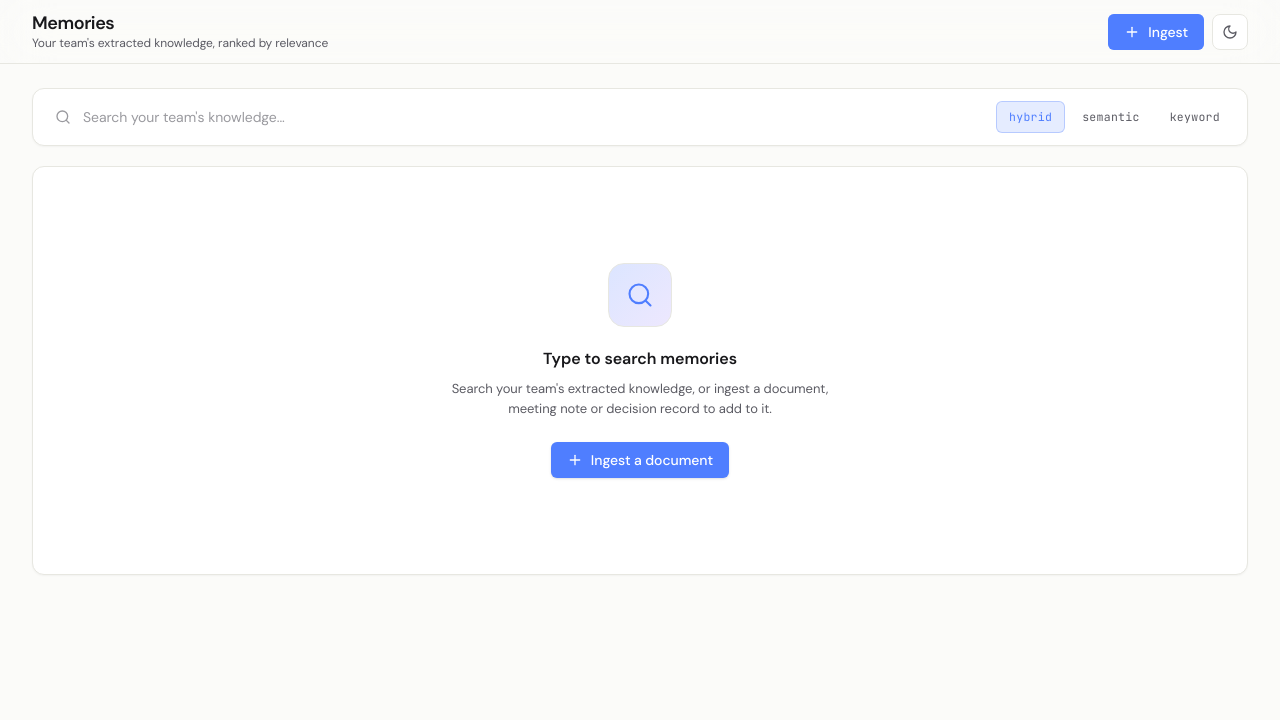
it: recovering from a failed search › a retry that succeeds clears the error and shows the results
The width and height of the screenshot is (1280, 720).
In the field with test id "memories-search-input": (514,117) [39, 95, 988, 139], type "vector index"
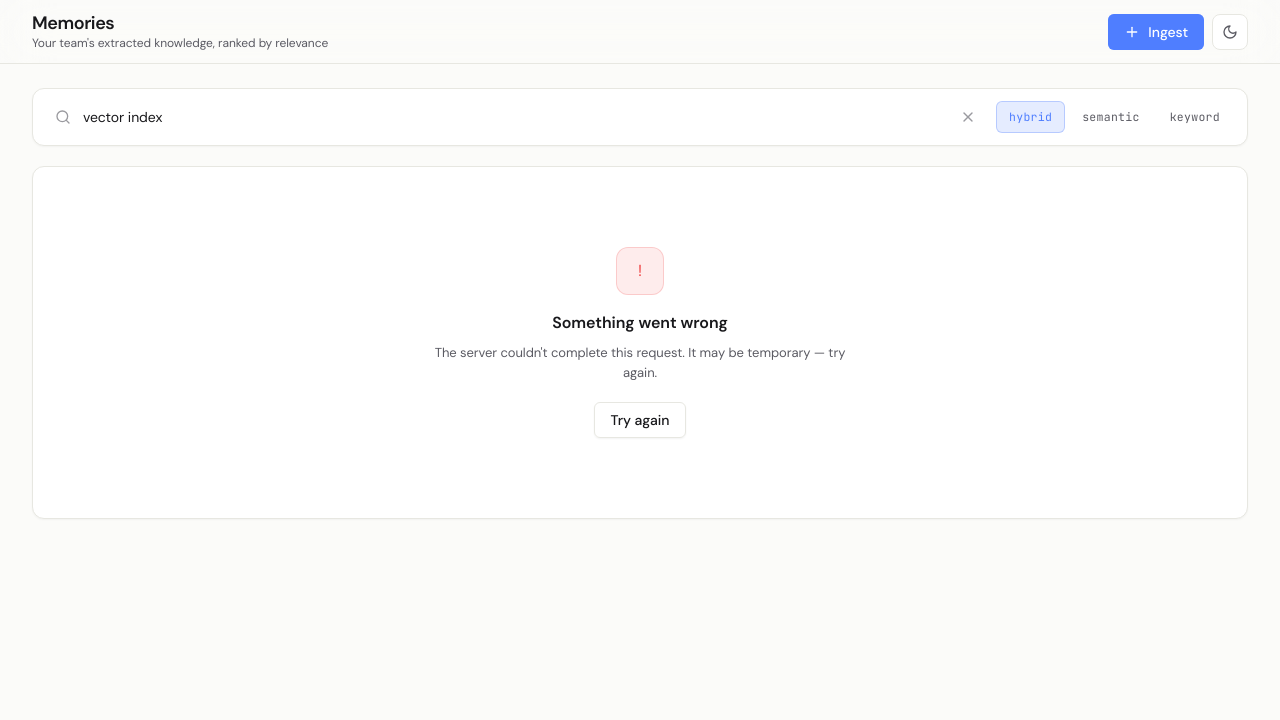
expect the element with test id "error-state" is shown: met, box [32, 166, 1248, 519]
Click the button with test id "error-retry": (640,420) [594, 402, 686, 438]
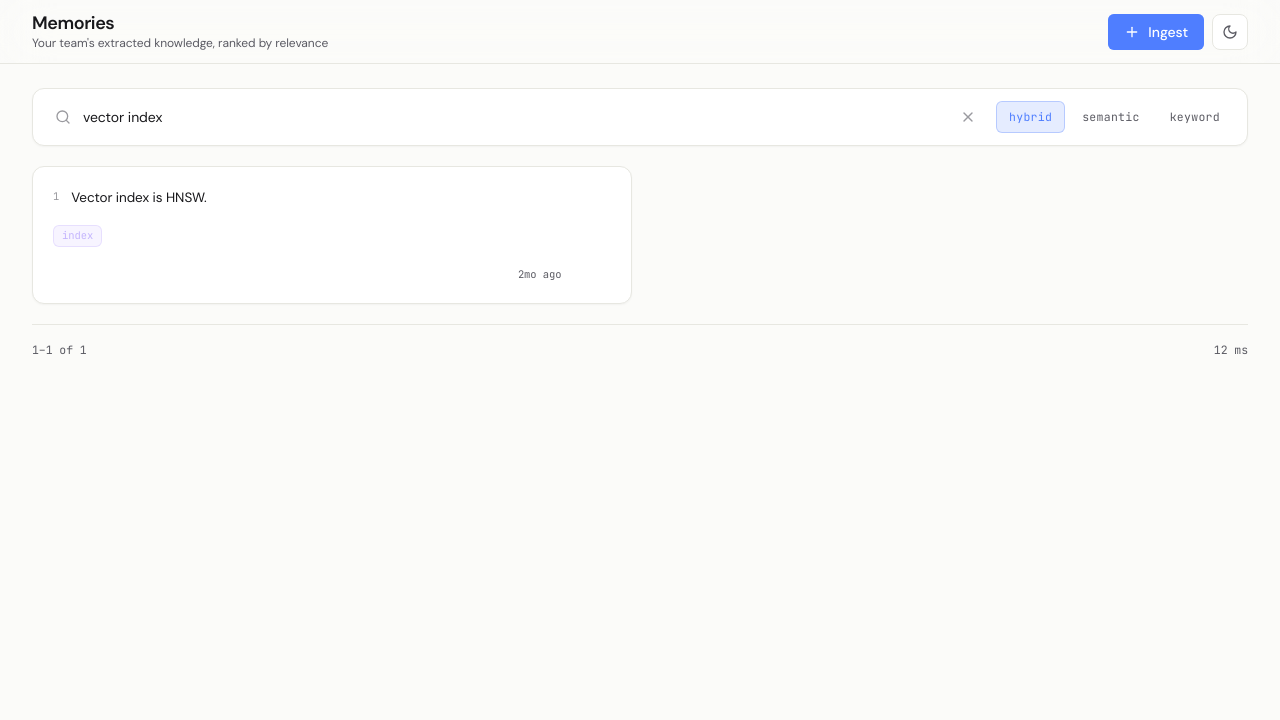
expect the element with test id "error-state" is gone: met
expect the text "Vector index is HNSW." is shown: met, box [71, 189, 207, 206]
